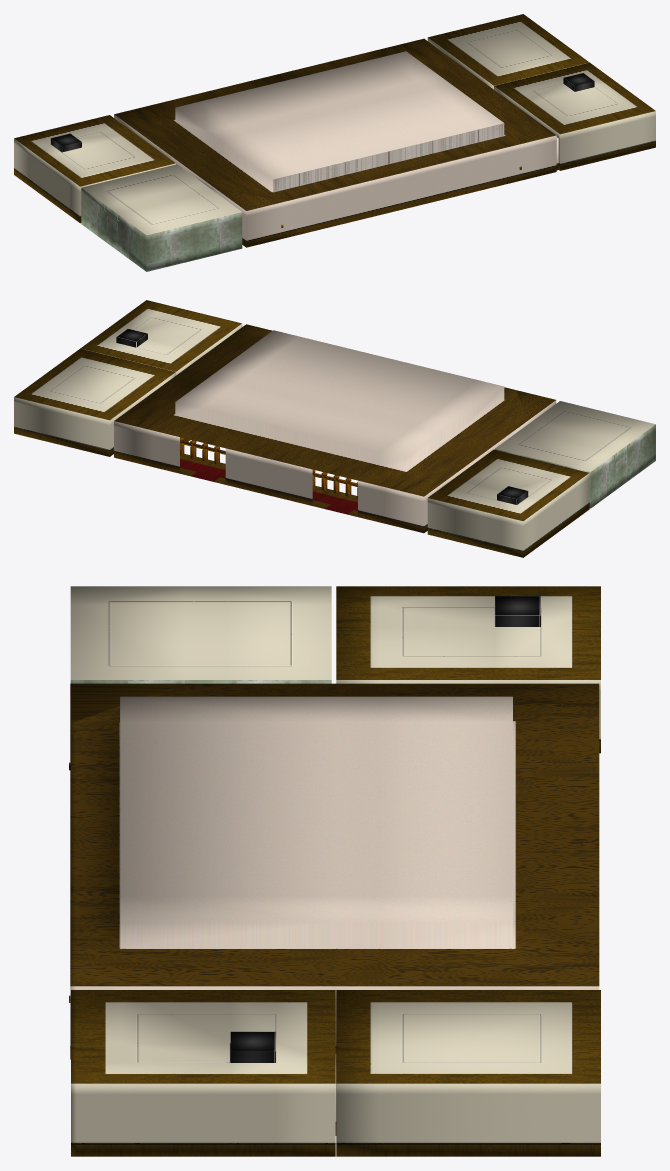
File: second_floor.fbx
The picture shows the model from 3 angles, top to bottom: view 1: azimuth 30°, elevation 25°; view 2: azimuth 150°, elevation 25°; view 3: azimuth 270°, elevation 25°; orthographic projection. The views are drawn at different scales.
Visible parts, largest first — view 1: obj1; view 2: obj1, obj2; view 3: obj1.
Part boxes in pixels (<box>): obj1: <box>14,14,655,271</box>; obj1: <box>14,300,655,557</box>; obj2: <box>180,437,357,498</box>; obj1: <box>70,586,600,1156</box>.
Bounding box in the file's own units: 3419 × 317 × 1545.
5 materials, 5 textured.
